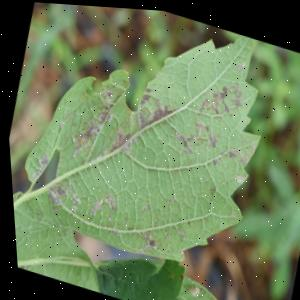Folha: (0, 0, 290, 300)
Fungo: (30, 26, 258, 262), (33, 71, 144, 230), (165, 61, 248, 164), (61, 76, 119, 165), (194, 68, 246, 120), (130, 89, 174, 136), (38, 172, 83, 217), (83, 182, 118, 220), (196, 75, 229, 114), (39, 178, 67, 212), (24, 147, 47, 183), (106, 121, 132, 152), (168, 124, 195, 151), (225, 78, 244, 104), (97, 186, 117, 210), (206, 77, 227, 98), (189, 114, 209, 136), (136, 225, 155, 247), (84, 192, 101, 215), (31, 148, 47, 171), (216, 94, 233, 112), (232, 142, 247, 161), (167, 220, 183, 237), (195, 91, 209, 109), (177, 134, 192, 150), (203, 179, 214, 198), (203, 127, 215, 144), (215, 79, 227, 96), (223, 141, 236, 156), (66, 187, 79, 202), (233, 54, 244, 69), (137, 199, 147, 210), (162, 191, 171, 202), (55, 117, 62, 127), (208, 153, 215, 161)
